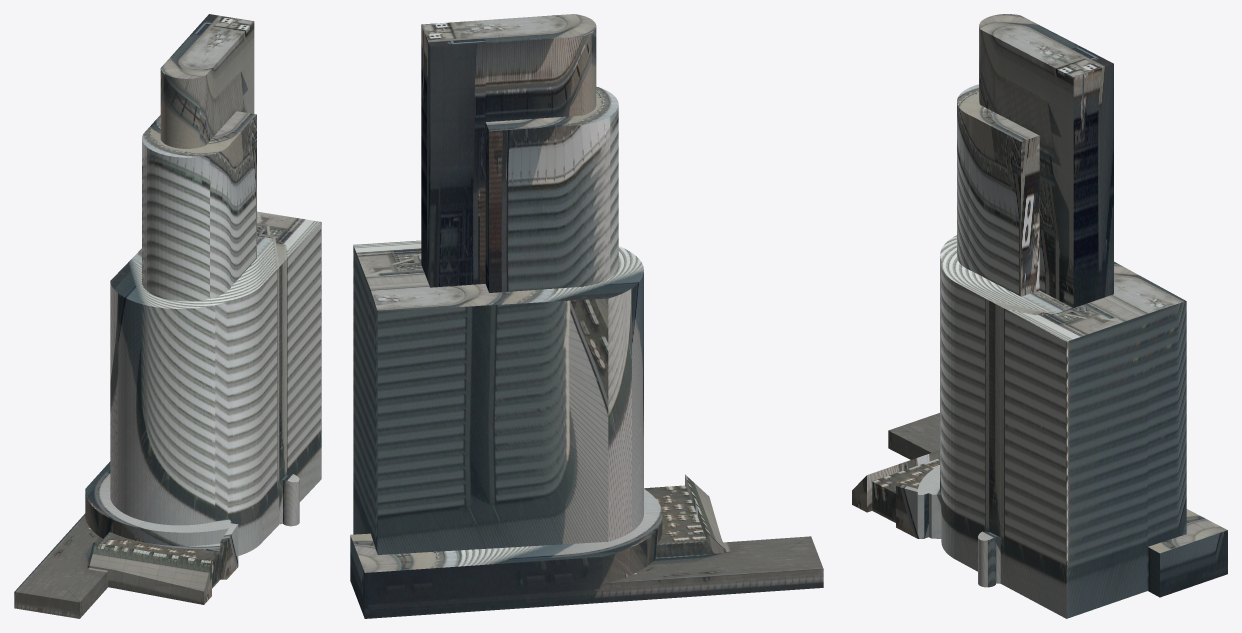
Rendered from {5FFE75AF-D086-4D93-A77C-28A413925225}.dae.
The picture shows the model from 3 angles, left to right: view 1: azimuth 30°, elevation 25°; view 2: azimuth 150°, elevation 25°; view 3: azimuth 270°, elevation 25°; orthographic projection. The views are drawn at different scales.
Bounding box in the file's own units: 99.13 × 82.5 × 123.
18 materials, 17 textured.
